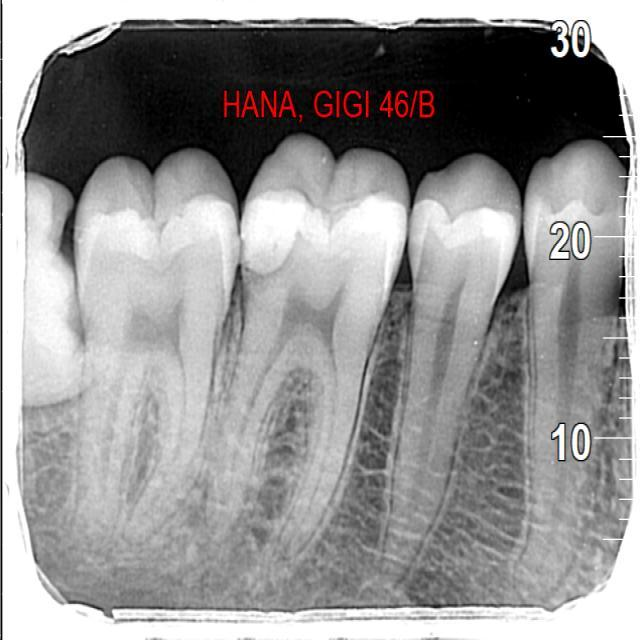individual-tooth-8tto: (209, 128, 407, 563), (65, 150, 227, 536), (382, 156, 523, 588), (518, 149, 637, 595)
